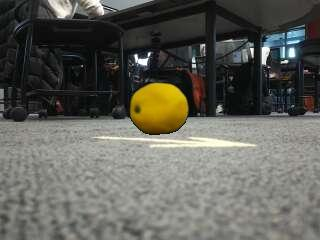lemon: (130, 83, 188, 134)
